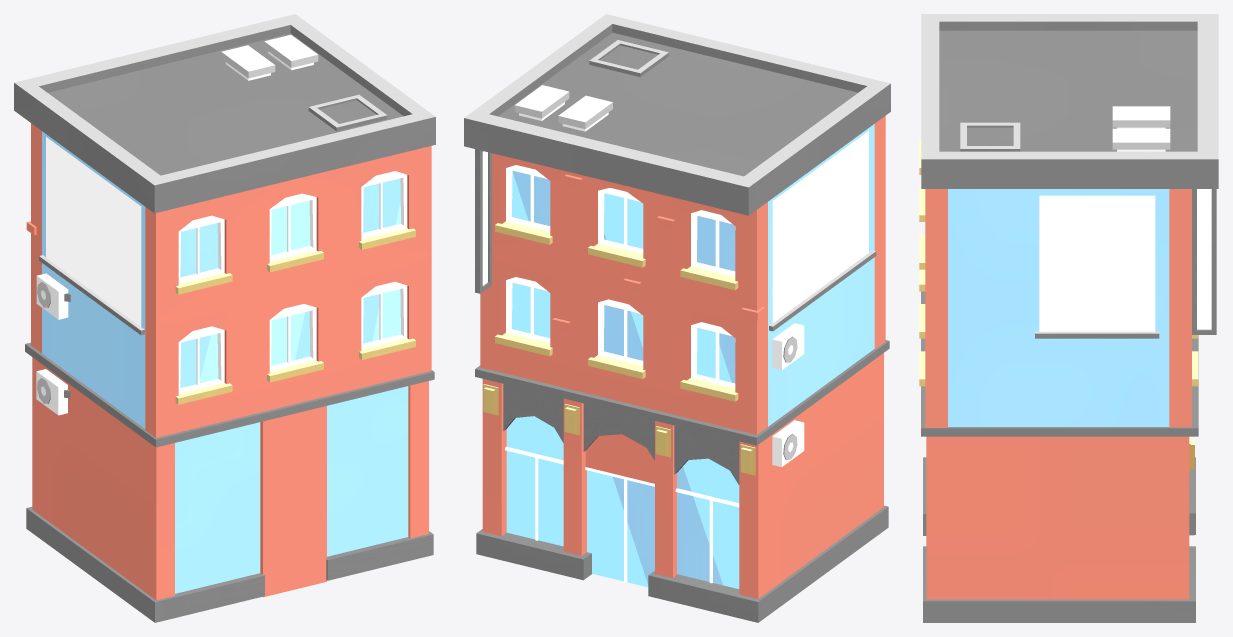
The model's file is hotel.007.glb.
The picture shows the model from 3 angles, left to right: view 1: azimuth 30°, elevation 25°; view 2: azimuth 150°, elevation 25°; view 3: azimuth 270°, elevation 25°; orthographic projection. The views are drawn at different scales.
Parts seen in each view (by area): view 1: hotel.007(Clone); view 2: hotel.007(Clone); view 3: hotel.007(Clone).
Boxes of the visible parts, left/top/right/bottom form: hotel.007(Clone): left=14, top=14, right=435, bottom=622; hotel.007(Clone): left=464, top=14, right=890, bottom=622; hotel.007(Clone): left=919, top=14, right=1218, bottom=622.
Bounding box in the file's own units: 6.1 × 8.99 × 5.19.
Materials: 1 (1 with a texture image).
